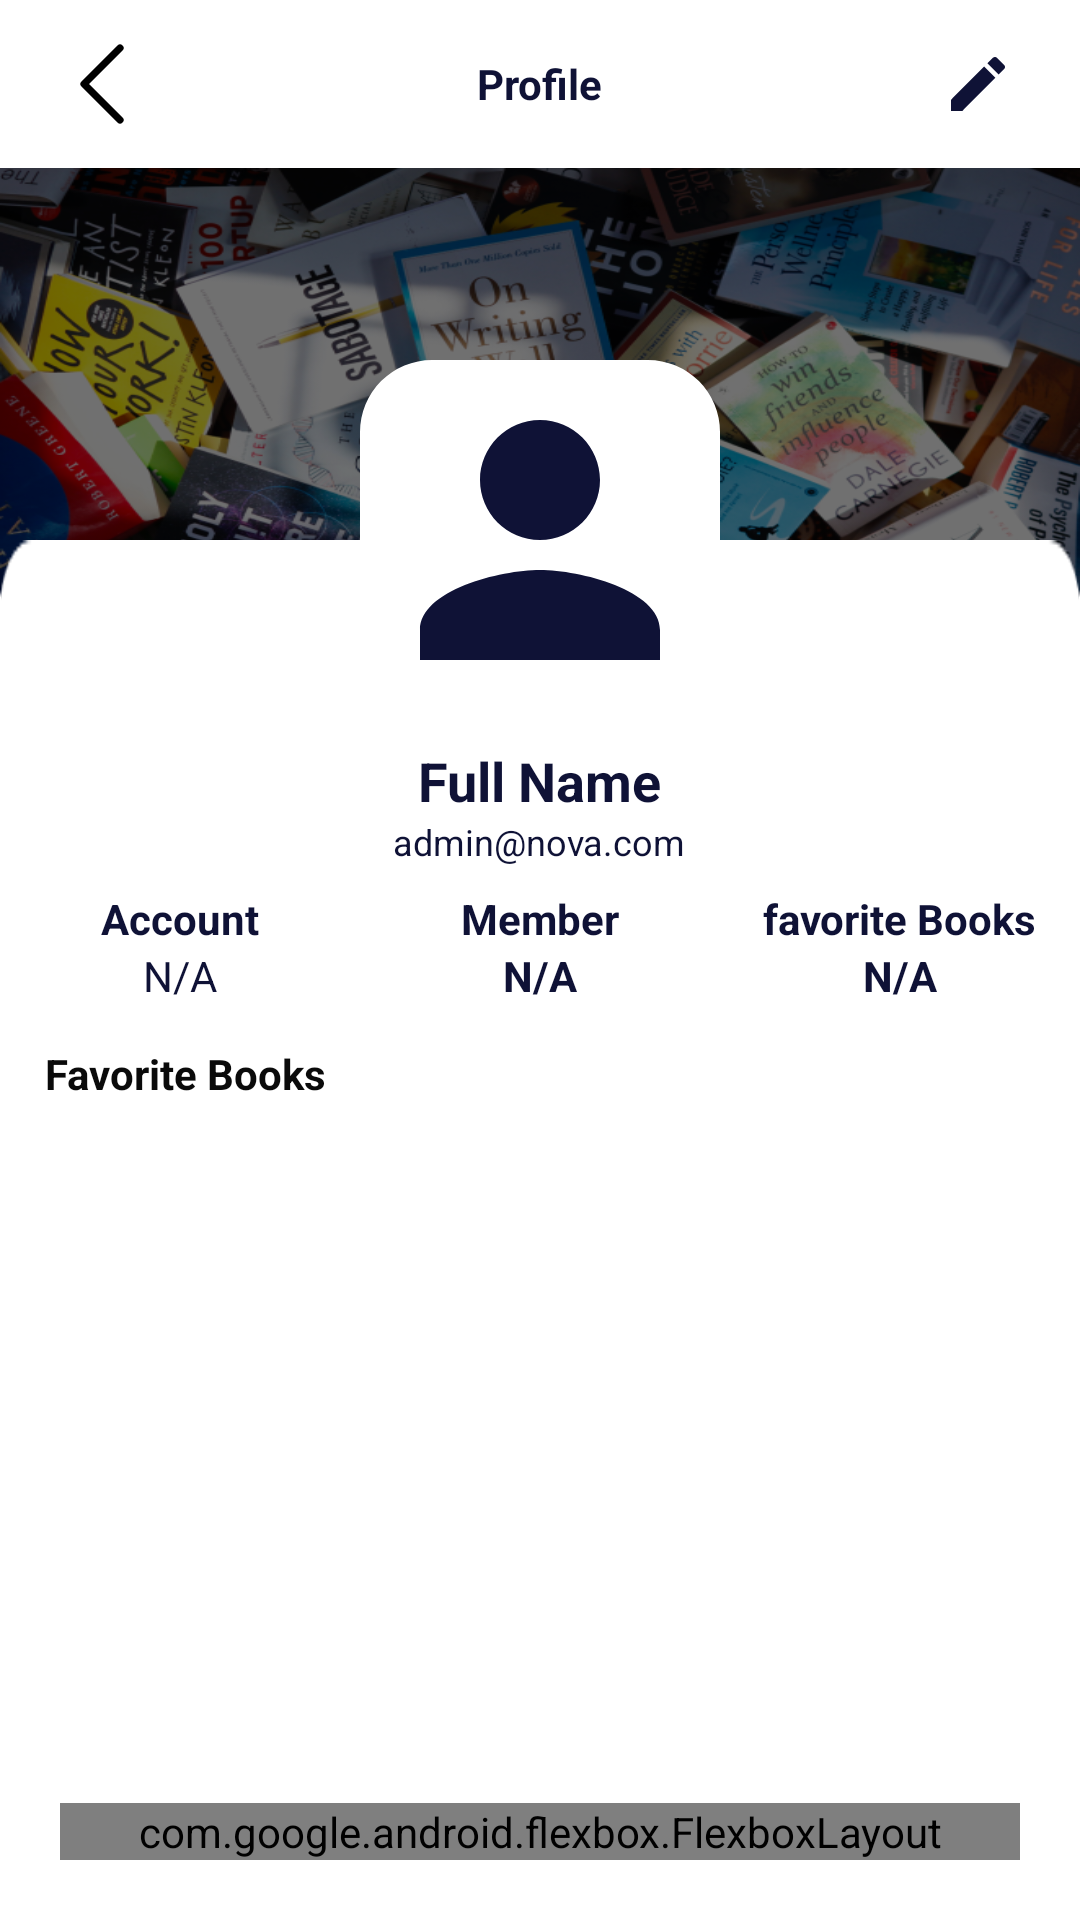

Named icons in this screenshot (1080w x 1920h) and their centers, (x=x, y=y):
edit: (x=978, y=84)
person: (x=540, y=540)
